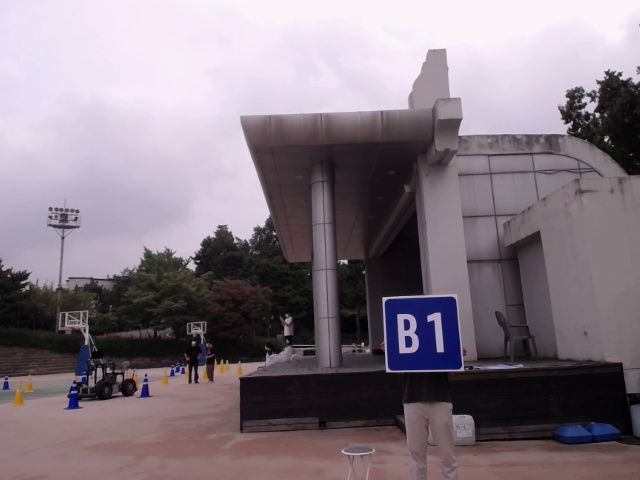delivery_b1: (382, 295, 464, 372)
